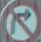Don't turn right: (0, 2, 38, 41)
